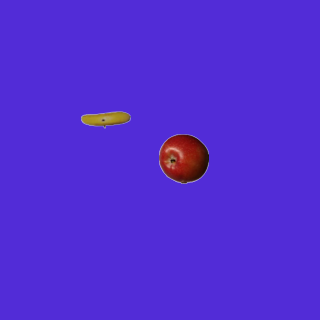Apple Braeburn: (158, 133, 208, 183)
Banana: (80, 94, 130, 144)
